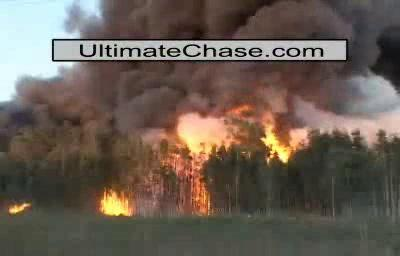fire: (177, 115, 295, 166), (100, 189, 131, 218)
smoke: (27, 2, 399, 140)
